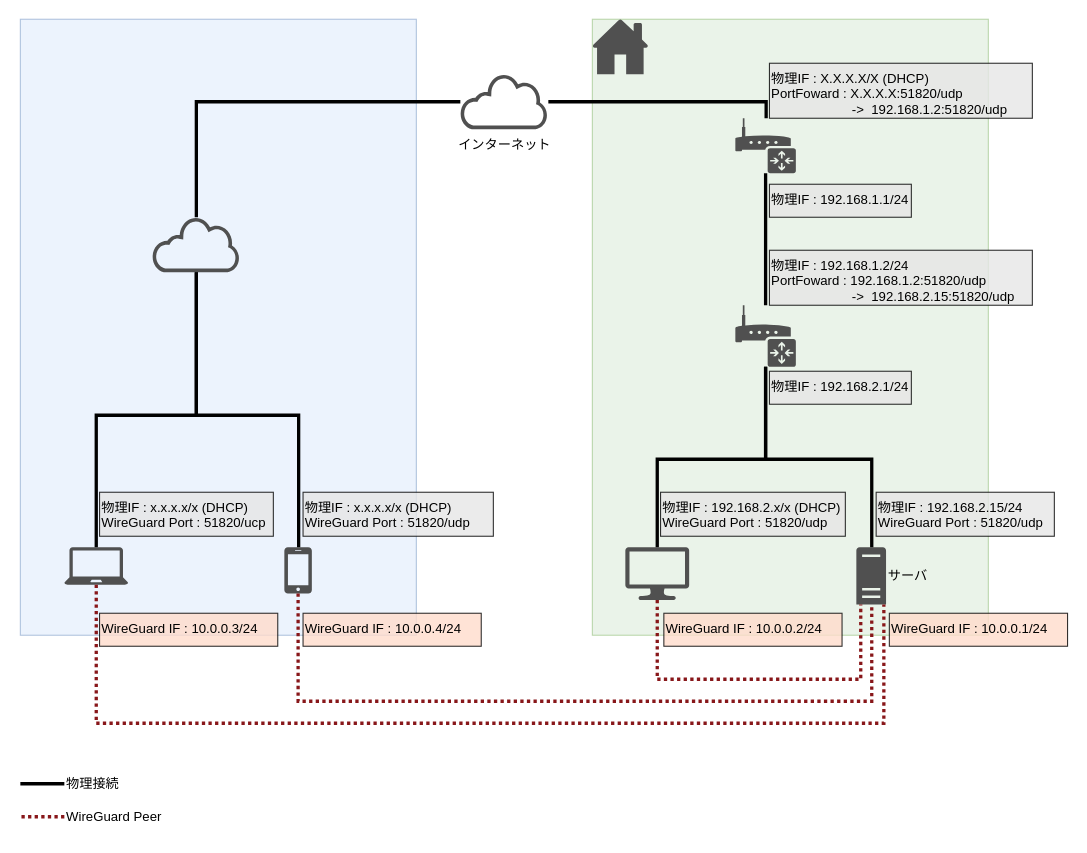
Some shapes in this 1087 by 853 pixel diagram are drawn without their labels. The centre of each missing label's shape, as x and y in pixels:
スマートフォン: pixel 297 570
デスクトップPC: pixel 657 573
ノートPC: pixel 96 565
ルータ ( ASUS RT-AC68U ): pixel 765 335
ルータ ( ZTE F660A ): pixel 765 145
何処かのネットワーク ・フリー Wi-Fi ・モバイルネットワーク ・等: pixel 196 244
自宅: pixel 620 46
